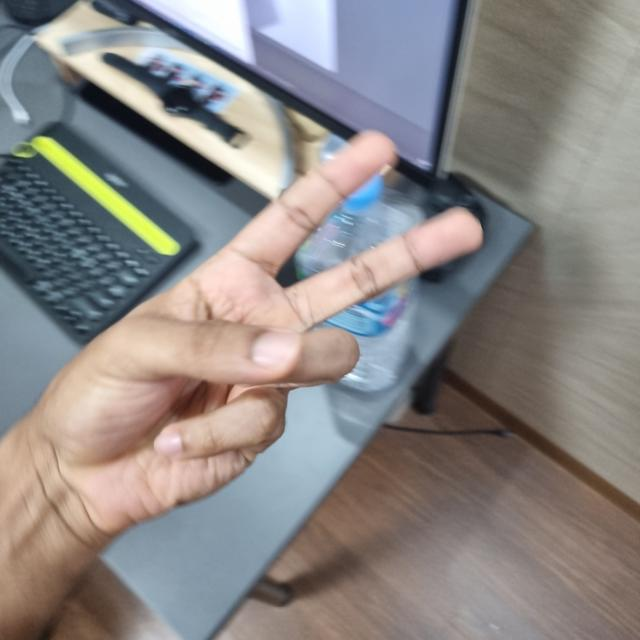Scissors: (34, 134, 477, 530)
